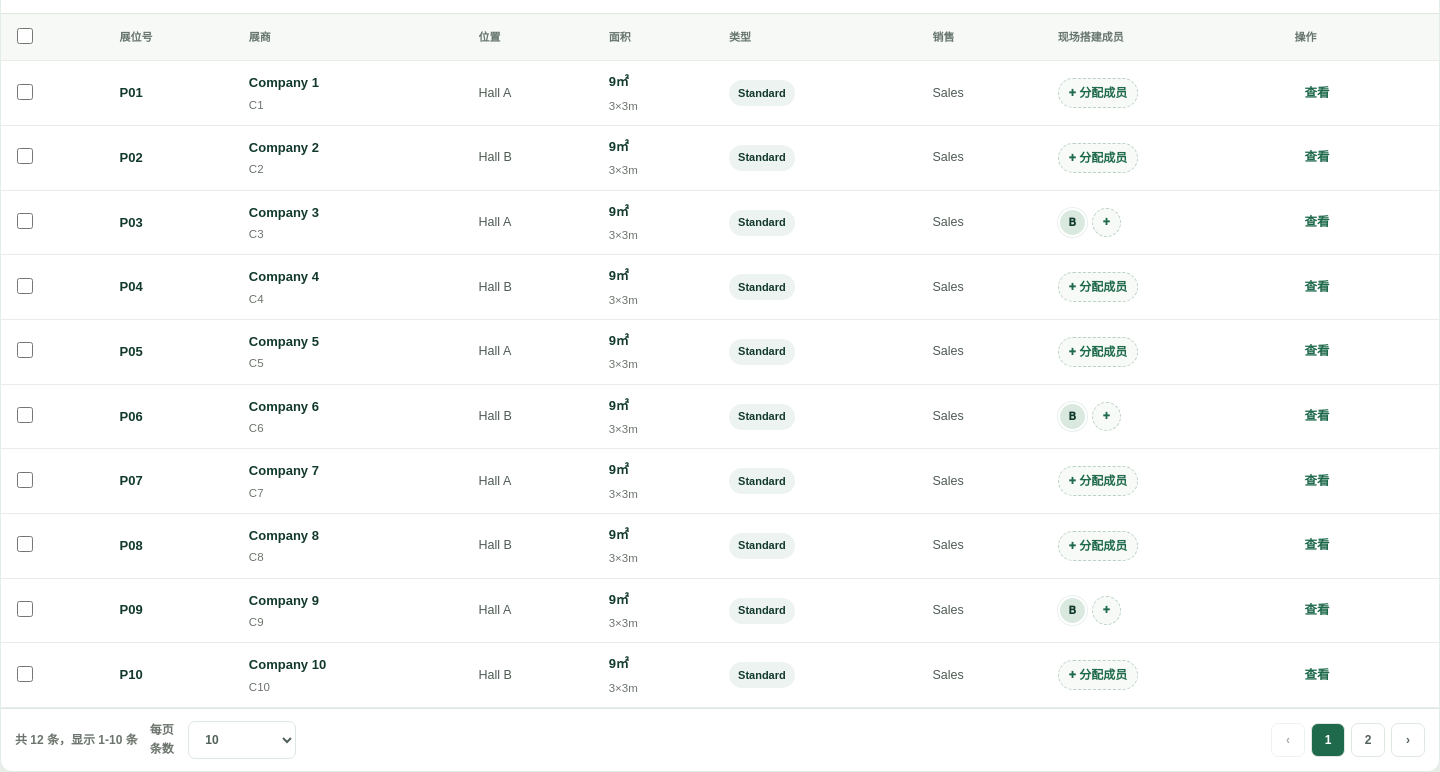
Test case: ExhibitorDashboard › keeps batch member assignment usable when many exhibitors are selected
(page scrolled)
Select "20" in the dropdown labelled "每页条数" at (242, 740), box [188,721,296,759]
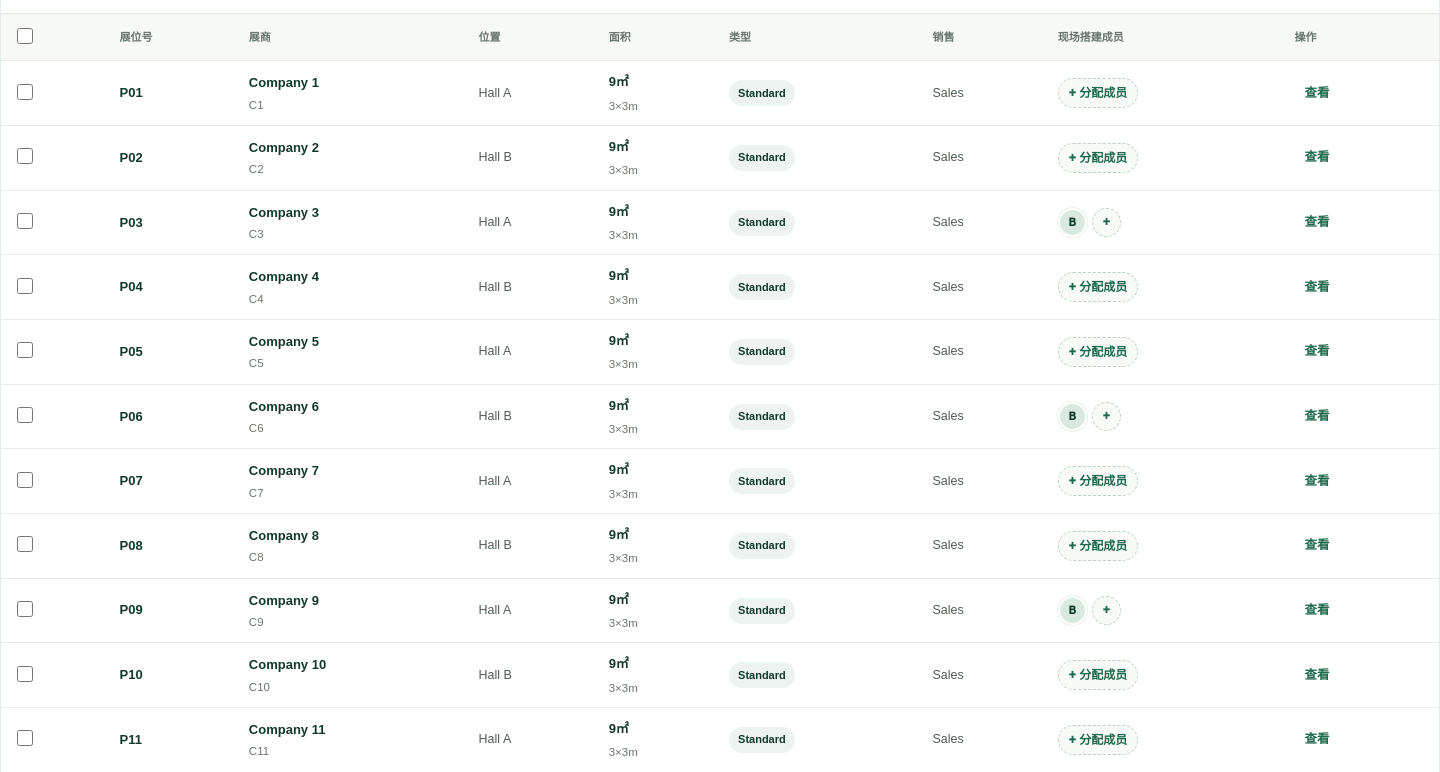
Click the checkbox named "选择当前页全部展商" at (25, 36), box [17,28,33,44]
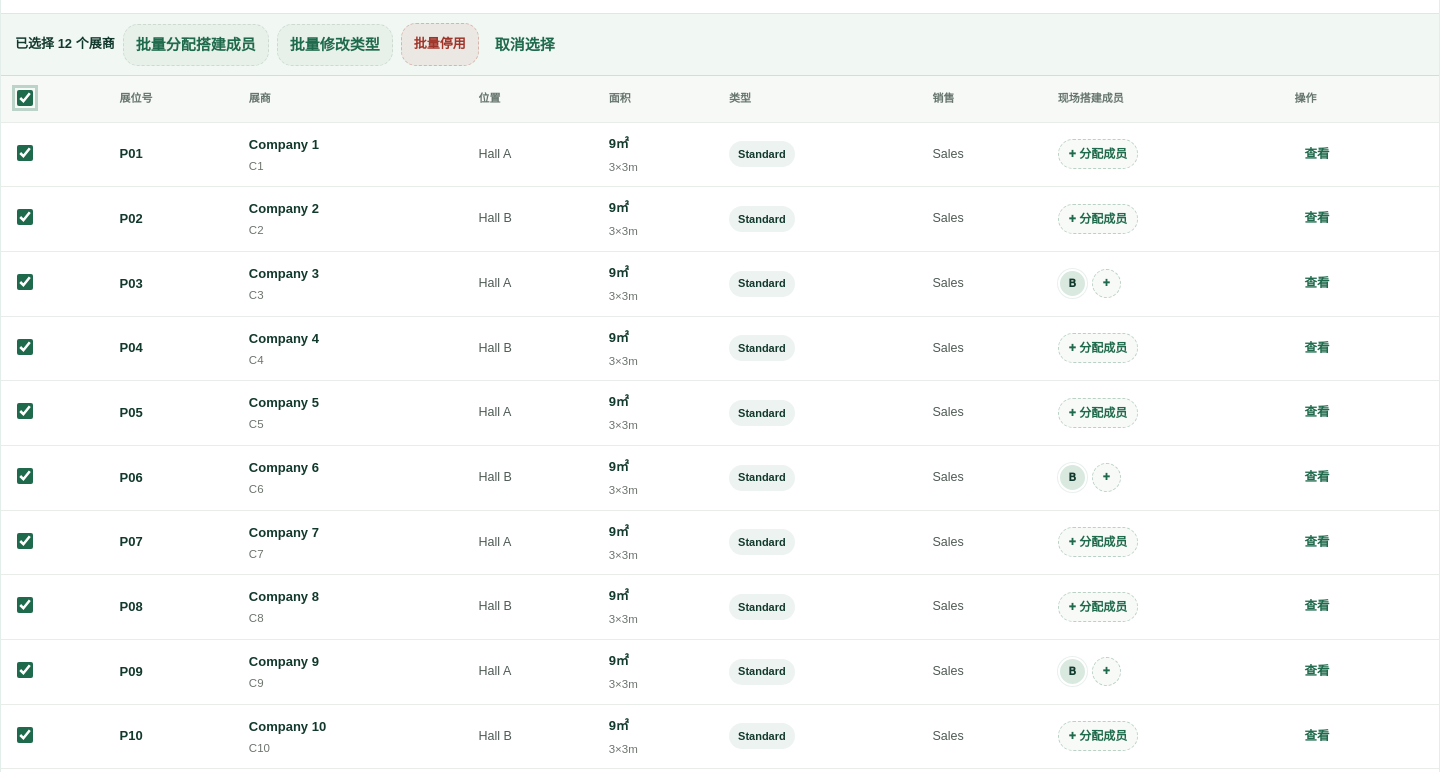
Click the button "批量分配搭建成员" at (196, 44), box [123,24,269,66]
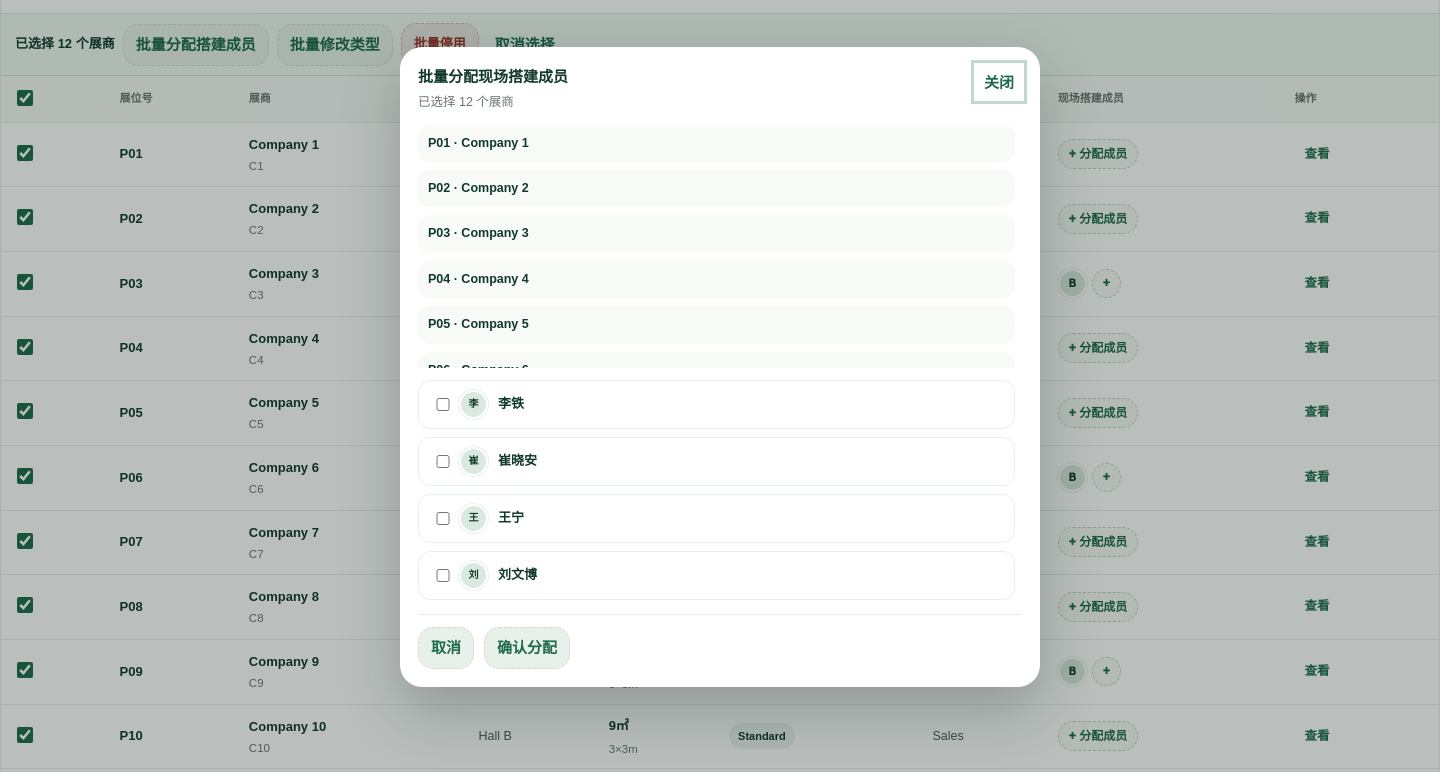
Expected: the text "已选择 12 个展商" is shown, [418,95,514,109]
Expected: the element named "已选择展商列表" is shown, [418,125,1018,368]
Expected: the element named "可选搭建组成员" is shown, [418,380,1018,600]
